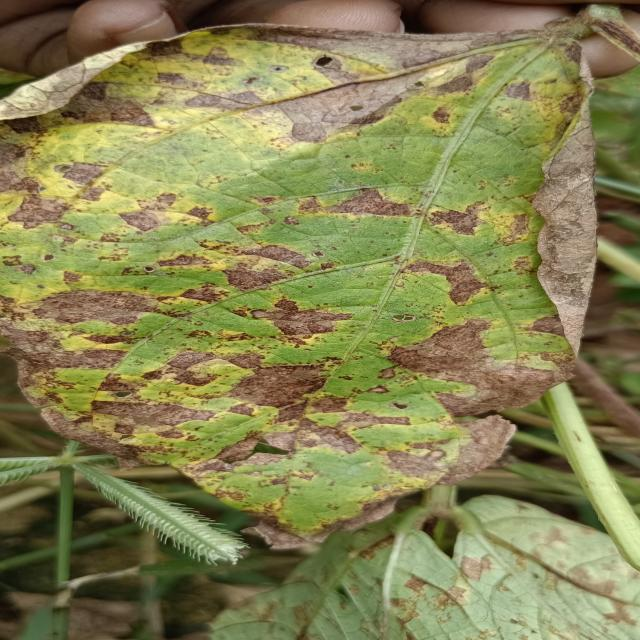Black gram_leaf spot: (0, 13, 624, 551)
